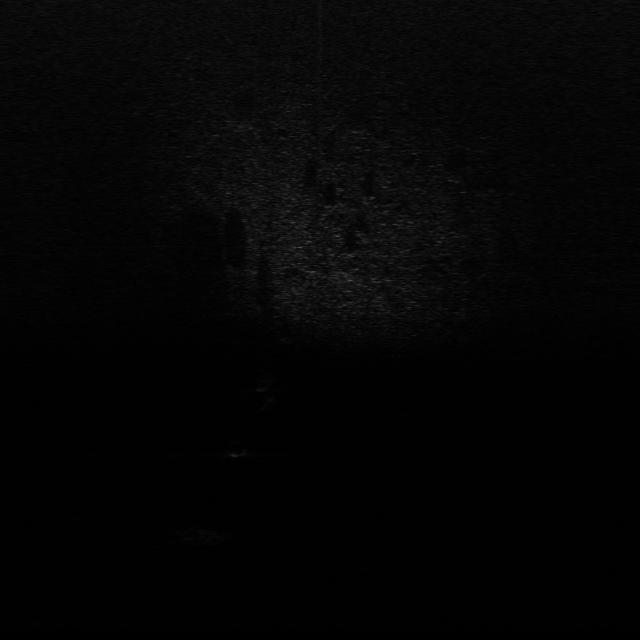ball: (222, 440, 250, 458)
circle cage: (171, 524, 237, 550)
human body: (256, 366, 278, 412)
